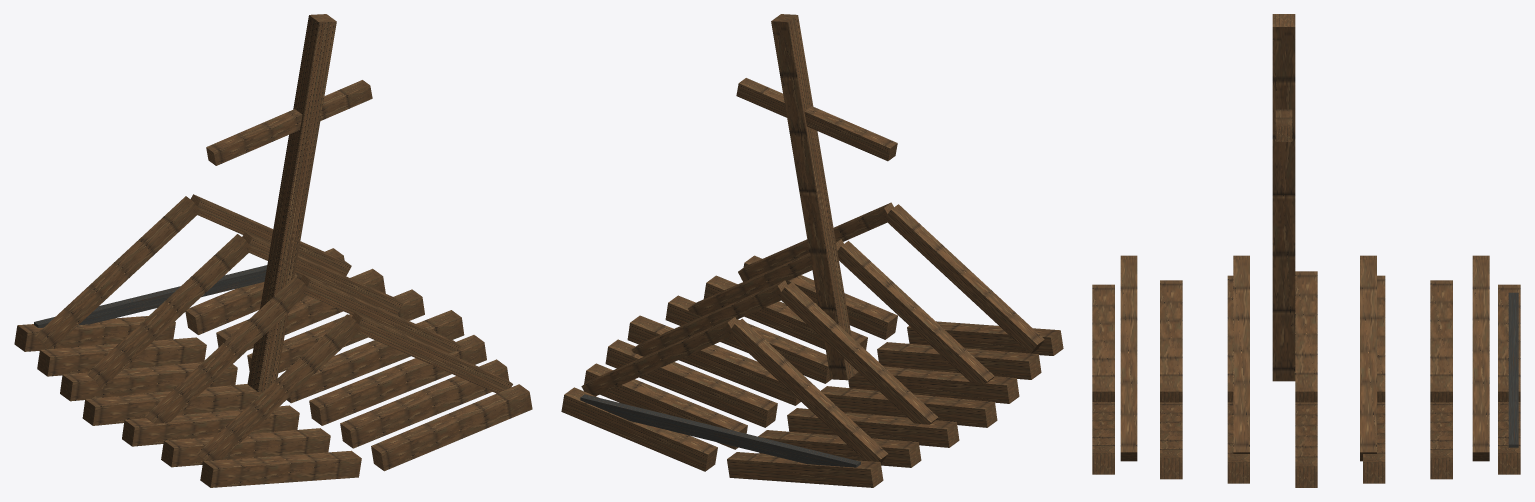
The model's file is ENV_WRECKAGE_001.obj.
3 views of the same model, side by side, from view 1: azimuth 30°, elevation 25°; view 2: azimuth 150°, elevation 25°; view 3: azimuth 270°, elevation 25° (orthographic). The views are drawn at different scales.
Visible parts, largest first — view 1: ReadableRib, TiltedMast, HullPlankR_6, HullPlankR_4, HullPlankR_5, HullPlankL_6, HullPlankR_3, HullPlankL_3, HullPlankL_1, HullPlankL_4, HullPlankL_5, HullPlankL_2 (+6 smaller); view 2: ReadableRib, TiltedMast, HullPlankR_2, WornHullBand, HullPlankR_0, HullPlankL_0, HullPlankR_3, HullPlankL_3, HullPlankL_2, HullPlankL_5, HullPlankL_4, BrokenYard (+6 smaller); view 3: ReadableRib, TiltedMast, HullPlankL_3, HullPlankL_1, HullPlankL_5, HullPlankL_6, HullPlankR_3, HullPlankR_1, HullPlankR_5, HullPlankL_0, WornHullBand, HullPlankR_6 (+6 smaller).
Part boxes in pixels (x1,y1,x2,y2): ReadableRib: (35,194,512,462); TiltedMast: (247,14,336,391); HullPlankR_6: (371,384,532,471); HullPlankR_4: (309,335,486,425); HullPlankR_5: (340,359,509,448); HullPlankL_6: (200,450,361,487); HullPlankR_3: (287,310,464,403); HullPlankL_3: (82,384,262,425); HullPlankL_1: (37,337,206,376); HullPlankL_4: (122,405,299,446); HullPlankL_5: (161,428,330,467); HullPlankL_2: (60,362,237,401); ReadableRib: (581,202,1044,463); TiltedMast: (771,14,857,380); HullPlankR_2: (605,339,777,427); WornHullBand: (580,394,860,467); HullPlankR_0: (561,387,717,471); HullPlankL_0: (727,452,883,487); HullPlankR_3: (627,315,800,405); HullPlankL_3: (821,386,997,427); HullPlankL_2: (787,408,959,447); HullPlankL_5: (877,342,1041,379); HullPlankL_4: (848,366,1019,403); BrokenYard: (736,78,897,161); ReadableRib: (1120,255,1489,461); TiltedMast: (1272,14,1295,381); HullPlankL_3: (1295,271,1317,402); HullPlankL_1: (1430,280,1452,402); HullPlankL_5: (1160,280,1182,402); HullPlankL_6: (1092,284,1114,401); HullPlankR_3: (1295,402,1317,487); HullPlankR_1: (1430,402,1452,479); HullPlankR_5: (1160,402,1182,479); HullPlankL_0: (1498,284,1520,401); WornHullBand: (1508,292,1518,447); HullPlankR_6: (1092,402,1114,474).
Bounding box in the file's own units: 3.32 × 3.28 × 3.04.
Materials: 2 (2 with a texture image).
